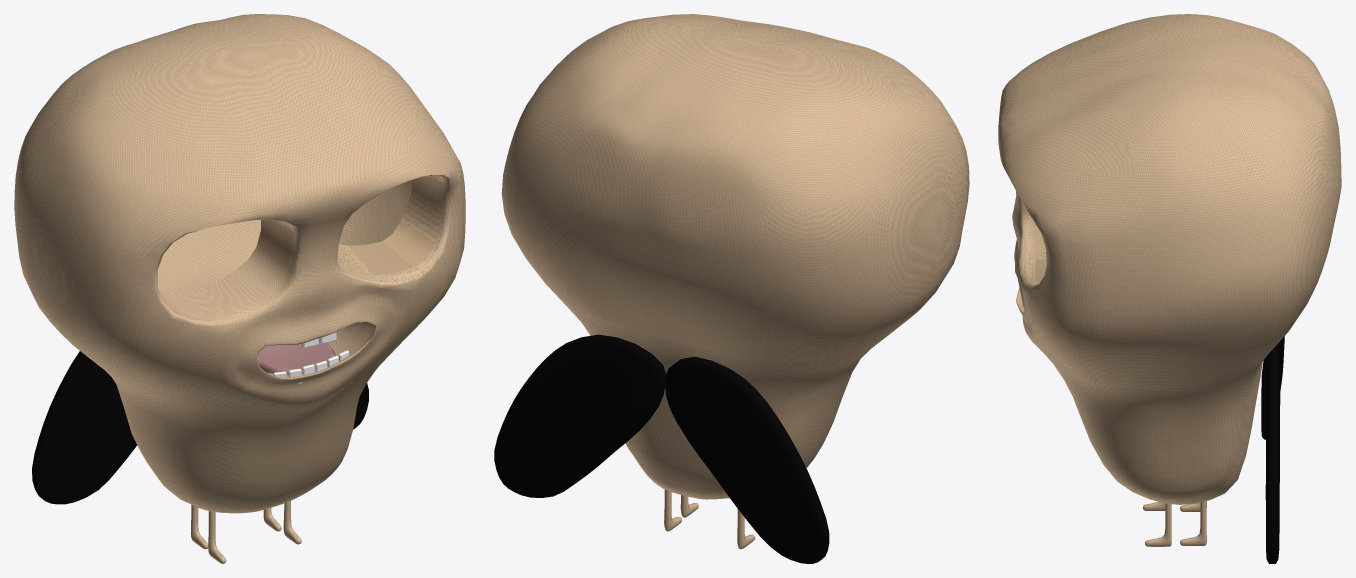
Rendered from Fly.fbx.
The picture shows the model from 3 angles, left to right: view 1: azimuth 30°, elevation 25°; view 2: azimuth 150°, elevation 25°; view 3: azimuth 270°, elevation 25°; orthographic projection. The views are drawn at different scales.
Parts seen in each view (by area): view 1: Fly_MDL:Body, Fly_MDL:wing_R, Fly_MDL:Tongue; view 2: Fly_MDL:Body, Fly_MDL:wing_L, Fly_MDL:wing_R; view 3: Fly_MDL:Body, Fly_MDL:wing_L, Fly_MDL:wing_R, Fly_MDL:leg_left_2, Fly_MDL:leg_left_1.
Part boxes in pixels (x1,y1,x2,y2): Fly_MDL:Body: [14, 14, 465, 513]; Fly_MDL:wing_R: [32, 351, 137, 504]; Fly_MDL:Tongue: [257, 338, 335, 375]; Fly_MDL:Body: [501, 14, 969, 499]; Fly_MDL:wing_L: [494, 334, 665, 497]; Fly_MDL:wing_R: [665, 356, 829, 563]; Fly_MDL:Body: [998, 14, 1341, 504]; Fly_MDL:wing_L: [1265, 343, 1280, 563]; Fly_MDL:wing_R: [1261, 336, 1284, 439]; Fly_MDL:leg_left_2: [1180, 501, 1206, 545]; Fly_MDL:leg_left_1: [1145, 503, 1171, 546].
Bounding box in the file's own units: 3.22 × 3.92 × 2.6.
Materials: 4 (1 with a texture image).
